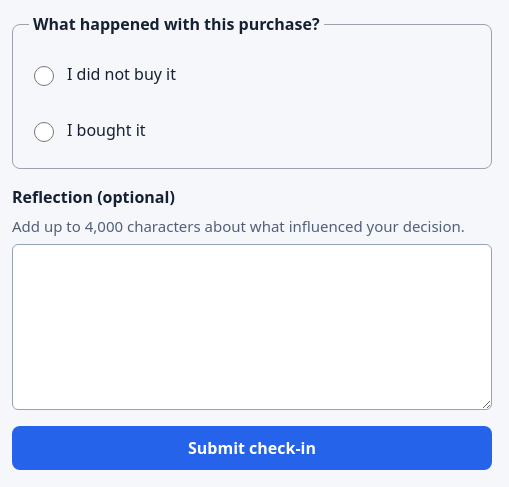
Test case: CheckInForm › disables every control and prevents duplicate pending submissions
Step 1. Click the radio button labelled "I did not buy it" → (44, 76), box [34,66,54,86]
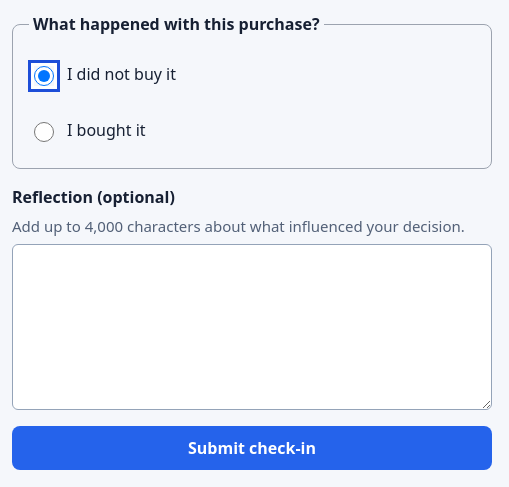
Step 2. Double-click the button "Submit check-in" → (252, 448), box [12,426,492,470]
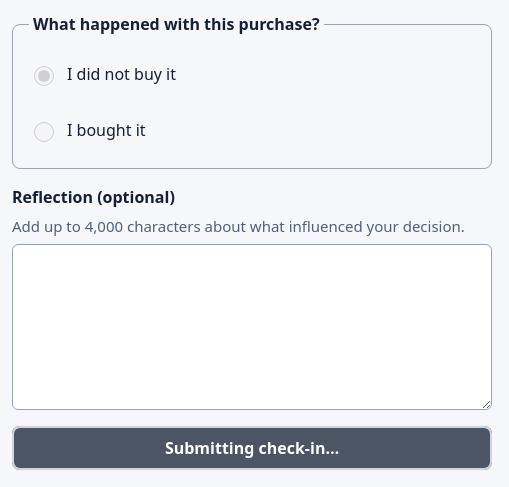
Expected: the radio button labelled "I did not buy it" is disabled, [34,66,54,86]
Expected: the button "Submitting check-in…" is disabled, [12,426,492,470]
